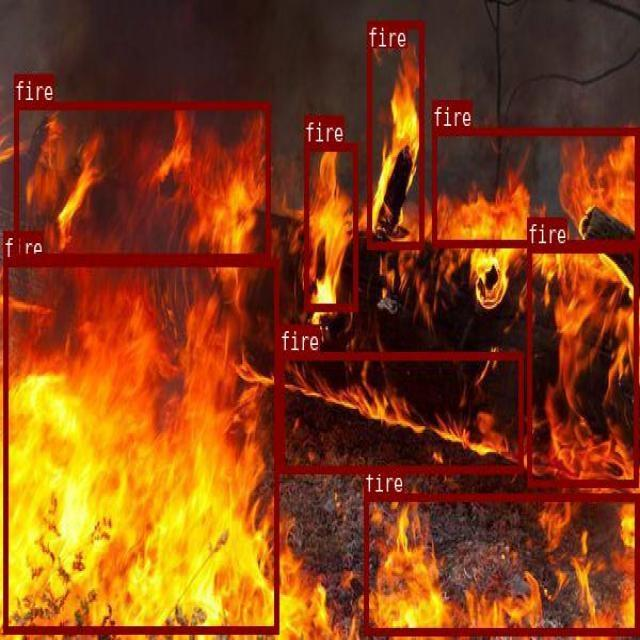fire: (3, 259, 278, 633), (13, 100, 269, 261), (363, 493, 638, 633), (280, 352, 523, 472), (527, 244, 637, 486), (431, 127, 638, 245), (367, 19, 423, 247), (303, 143, 357, 310)
